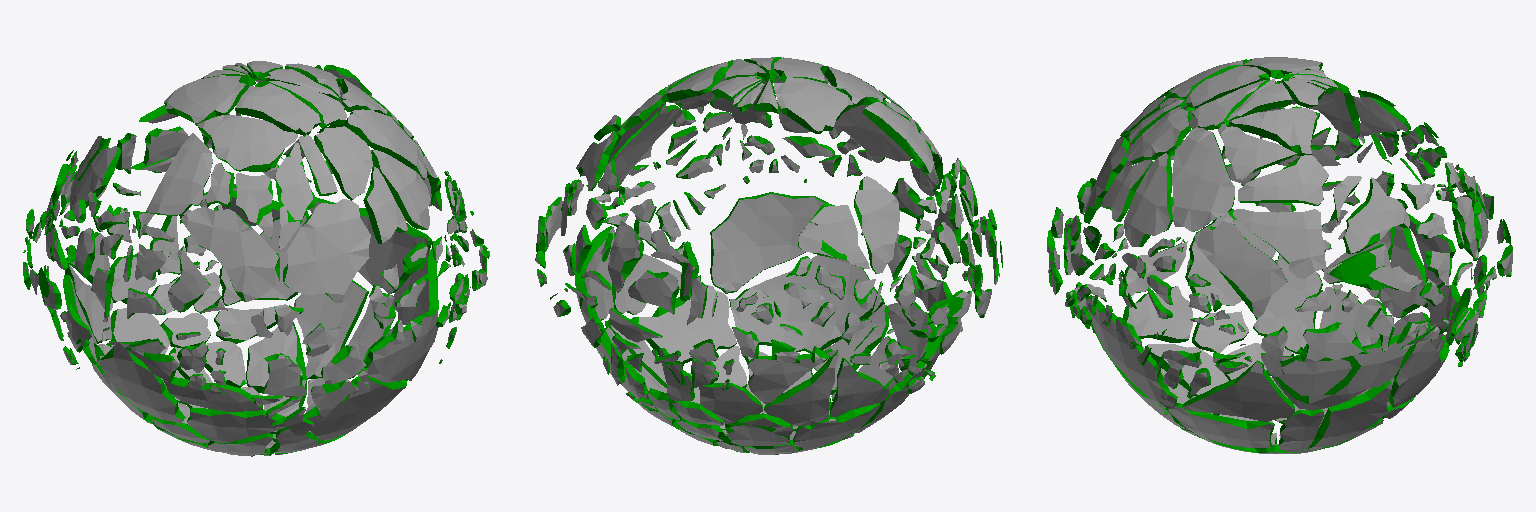
File: outside.obj
The picture shows the model from 3 angles: view 1: azimuth 30°, elevation 25°; view 2: azimuth 150°, elevation 25°; view 3: azimuth 270°, elevation 25°; orthographic projection.
Visible parts, largest first — view 1: Sphere_cell.085_Mesh.179, Sphere_cell.016_Mesh.116, Sphere_cell.073_Mesh.167, Sphere_cell.018_Mesh.118, Sphere_cell.059_Mesh.159, Sphere_cell.046_Mesh.146, Sphere_cell.031_Mesh.131, Sphere_cell.045_Mesh.145, Sphere_cell.086_Mesh.180, Sphere_cell.093_Mesh.187, Sphere_cell.010_Mesh.110, Sphere_cell.063_Mesh.163 (+28 smaller); view 2: Sphere_cell.045_Mesh.145, Sphere_cell.031_Mesh.131, Sphere_cell.036_Mesh.136, Sphere_cell.002_Mesh.102, Sphere_cell.086_Mesh.180, Sphere_cell.043_Mesh.143, Sphere_cell.076_Mesh.170, Sphere_cell.018_Mesh.118, Sphere_cell.034_Mesh.134, Sphere_cell.085_Mesh.179, Sphere_cell.096_Mesh.190, Sphere_cell.098_Mesh.192 (+28 smaller); view 3: Sphere_cell.063_Mesh.163, Sphere_cell.096_Mesh.190, Sphere_cell.012_Mesh.112, Sphere_cell.039_Mesh.139, Sphere_cell.095_Mesh.189, Sphere_cell.061_Mesh.161, Sphere_cell.055_Mesh.155, Sphere_cell.008_Mesh.108, Sphere_cell.046_Mesh.146, Sphere_cell.030_cell.085_Mesh.473, Sphere_cell.045_Mesh.145, Sphere_cell.072_Mesh.166 (+28 smaller).
Boxes of the visible parts, <box> form: Sphere_cell.085_Mesh.179: <box>283,199,370,302</box>; Sphere_cell.016_Mesh.116: <box>181,207,279,301</box>; Sphere_cell.073_Mesh.167: <box>197,115,297,171</box>; Sphere_cell.018_Mesh.118: <box>146,133,212,215</box>; Sphere_cell.059_Mesh.159: <box>97,346,185,423</box>; Sphere_cell.046_Mesh.146: <box>294,280,368,378</box>; Sphere_cell.031_Mesh.131: <box>304,376,406,440</box>; Sphere_cell.045_Mesh.145: <box>364,308,438,380</box>; Sphere_cell.086_Mesh.180: <box>164,74,247,125</box>; Sphere_cell.093_Mesh.187: <box>314,126,372,200</box>; Sphere_cell.010_Mesh.110: <box>235,83,320,135</box>; Sphere_cell.063_Mesh.163: <box>346,109,426,179</box>; Sphere_cell.045_Mesh.145: <box>710,192,828,293</box>; Sphere_cell.031_Mesh.131: <box>729,255,884,353</box>; Sphere_cell.036_Mesh.136: <box>631,285,736,363</box>; Sphere_cell.002_Mesh.102: <box>854,176,899,273</box>; Sphere_cell.086_Mesh.180: <box>774,77,852,133</box>; Sphere_cell.043_Mesh.143: <box>764,350,838,425</box>; Sphere_cell.076_Mesh.170: <box>747,349,836,403</box>; Sphere_cell.018_Mesh.118: <box>862,102,933,174</box>; Sphere_cell.034_Mesh.134: <box>830,358,888,416</box>; Sphere_cell.085_Mesh.179: <box>836,105,911,162</box>; Sphere_cell.096_Mesh.190: <box>608,104,682,185</box>; Sphere_cell.098_Mesh.192: <box>793,403,880,449</box>; Sphere_cell.063_Mesh.163: <box>1172,127,1234,231</box>; Sphere_cell.096_Mesh.190: <box>1195,217,1287,317</box>; Sphere_cell.012_Mesh.112: <box>1233,209,1325,278</box>; Sphere_cell.039_Mesh.139: <box>1261,332,1416,409</box>; Sphere_cell.095_Mesh.189: <box>1182,360,1294,421</box>; Sphere_cell.061_Mesh.161: <box>1253,254,1322,353</box>; Sphere_cell.055_Mesh.155: <box>1124,153,1172,246</box>; Sphere_cell.008_Mesh.108: <box>1238,155,1328,205</box>; Sphere_cell.046_Mesh.146: <box>1308,380,1391,449</box>; Sphere_cell.030_cell.085_Mesh.473: <box>1343,177,1409,253</box>; Sphere_cell.045_Mesh.145: <box>1086,295,1169,407</box>; Sphere_cell.072_Mesh.166: <box>1228,108,1317,155</box>.
Size of the model in its own units: 2.33 by 1.98 by 2.32.